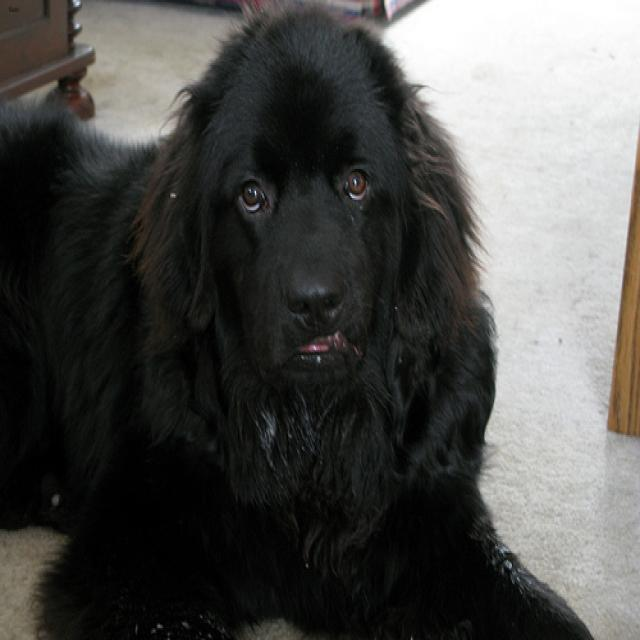dog-newfoundland: (1, 2, 604, 637)
